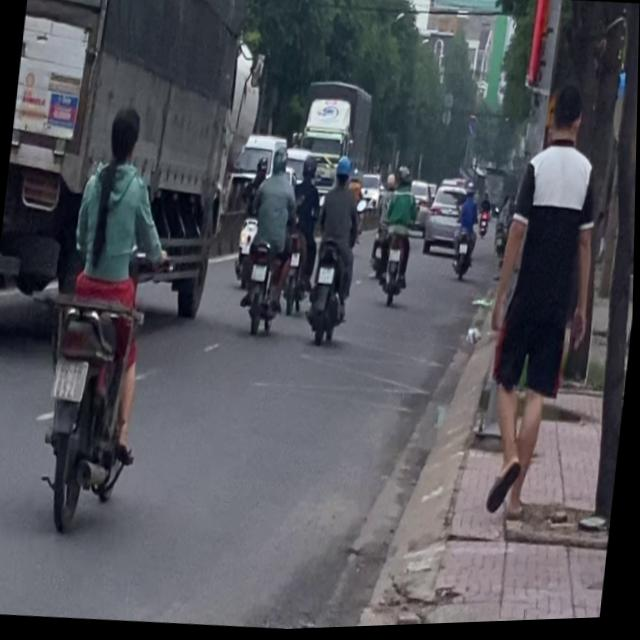licenseplate: (25, 96, 178, 538)
motorcyclist: (105, 103, 143, 167)
nohelmet: (53, 359, 88, 402)
